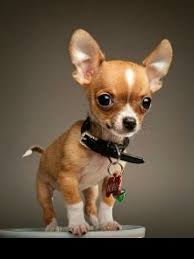chihuahua: (8, 20, 179, 248)
